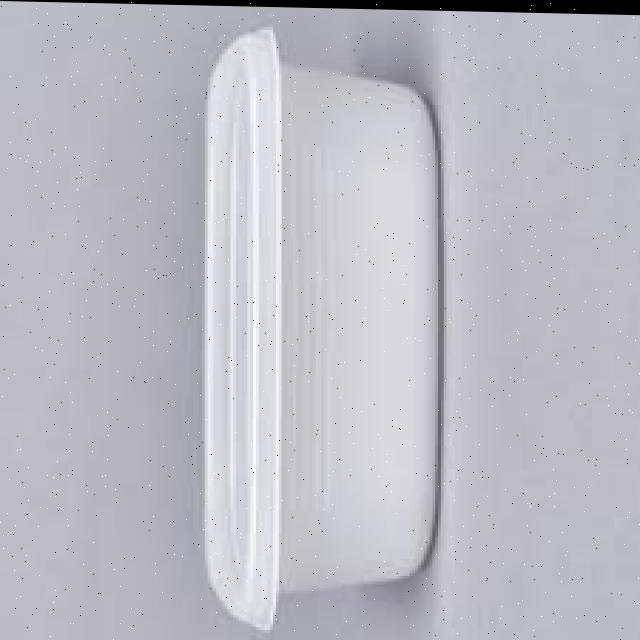disposable: (182, 14, 468, 621)
